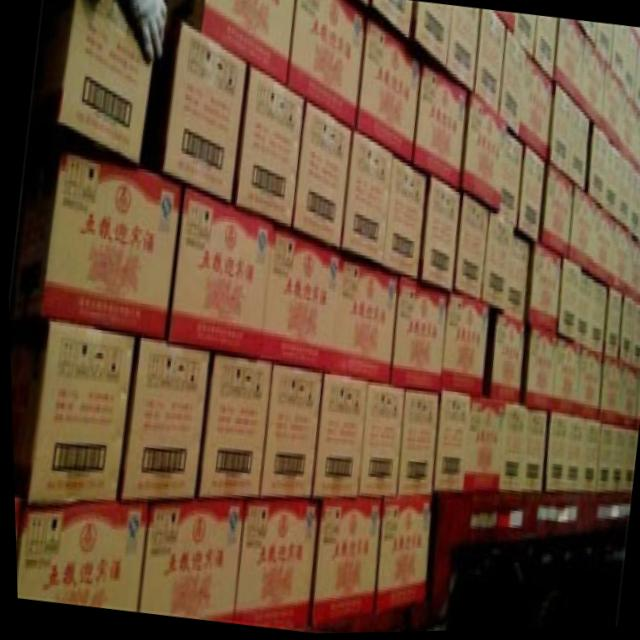box: (37, 154, 181, 338), (25, 324, 133, 502), (166, 187, 272, 356), (58, 0, 153, 164), (162, 23, 247, 204), (118, 339, 208, 502), (13, 503, 146, 613), (135, 500, 243, 625), (258, 229, 342, 376), (230, 500, 317, 634), (236, 66, 304, 228), (196, 356, 270, 503), (306, 500, 382, 635), (287, 0, 365, 127), (356, 23, 421, 163), (257, 363, 320, 502), (293, 104, 351, 251), (328, 260, 396, 383), (201, 0, 297, 85), (369, 500, 427, 633), (412, 67, 468, 192), (311, 375, 365, 500), (341, 136, 393, 265), (389, 279, 446, 392), (354, 386, 402, 500), (461, 99, 506, 214), (383, 161, 426, 281), (439, 296, 488, 398), (393, 391, 437, 499), (420, 180, 460, 294), (460, 399, 504, 494), (451, 198, 489, 300), (516, 59, 553, 162), (431, 392, 468, 492), (473, 14, 506, 119), (444, 8, 481, 96), (487, 319, 522, 405), (574, 272, 609, 358), (480, 218, 512, 312), (527, 247, 560, 338), (540, 168, 573, 259), (516, 148, 545, 244), (576, 38, 606, 129), (498, 34, 524, 136), (523, 332, 555, 412), (414, 3, 452, 70), (554, 21, 584, 103), (497, 137, 523, 230), (568, 191, 597, 271), (497, 406, 524, 491), (600, 70, 627, 151), (520, 411, 545, 494), (550, 86, 573, 176), (566, 105, 589, 195), (550, 341, 577, 417), (503, 241, 529, 319), (573, 349, 600, 420), (542, 415, 565, 494), (557, 262, 579, 343), (576, 422, 600, 495), (591, 208, 613, 287), (533, 18, 559, 83), (561, 420, 583, 493), (588, 131, 609, 206), (373, 1, 412, 40), (601, 290, 621, 365), (606, 222, 626, 297), (602, 144, 622, 219), (620, 232, 640, 305), (593, 425, 613, 495), (597, 361, 617, 428), (606, 428, 625, 495), (623, 32, 640, 104), (609, 28, 630, 86), (617, 297, 633, 370), (594, 25, 616, 70), (513, 15, 536, 58), (614, 366, 629, 430), (566, 22, 598, 51)
